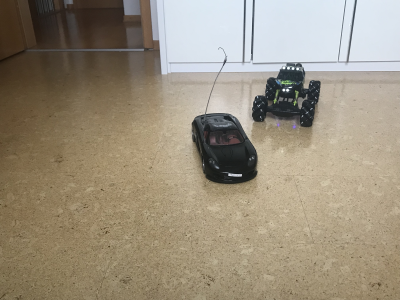remote control car: (248, 60, 324, 128)
